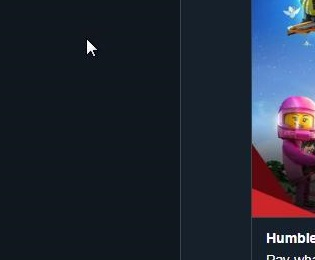cursor: (85, 38, 98, 59)
